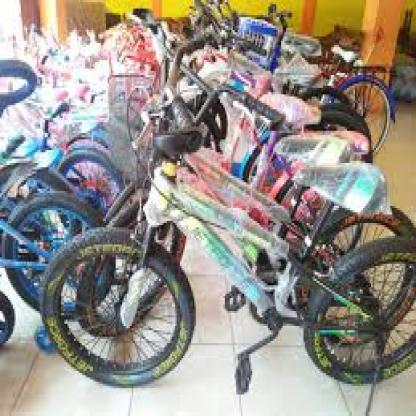Bike: (44, 19, 416, 392)
